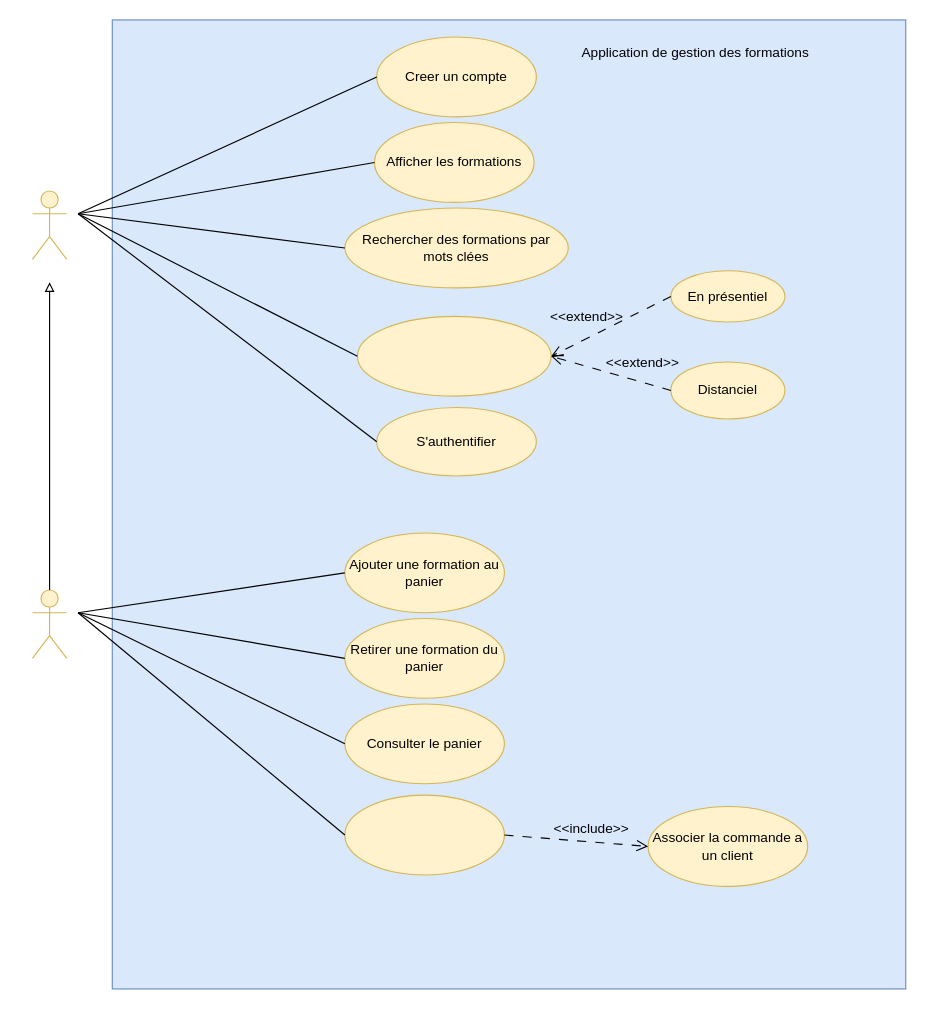
This 926x1009 diagram has some shape labels left out. The shapes that lost their labels are listed below. From the top down, each one's centre as x and y in pixels, then its label:
pixel 49 224: Visiteur
pixel 453 355: Filtrer les formations par modalité
pixel 49 623: Utilisateur
pixel 424 834: Passer commande
